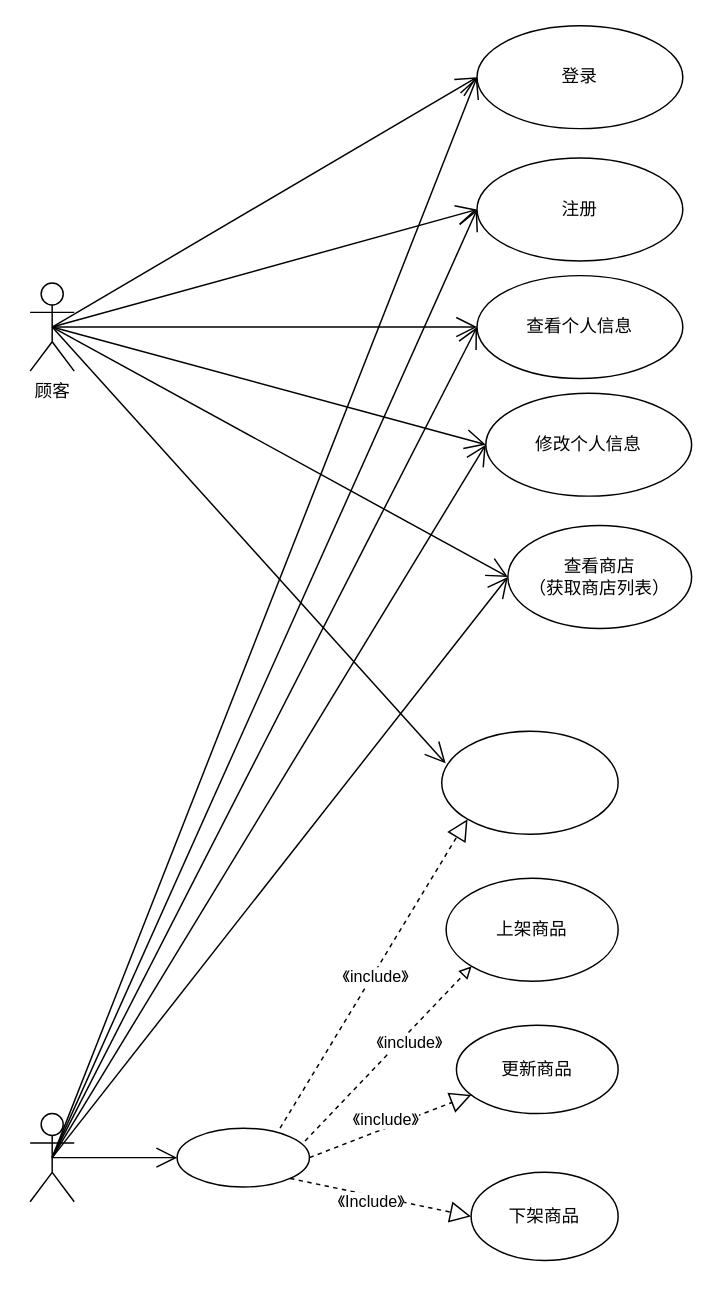
Image size: 717x1298. Some labels were removed from this diagram. The box of each missing label's shape, as (x1, y1, x2, y2) in pixels:
查看商品 （获取商品列表）: (440, 730, 618, 834)
管理员: (29, 1112, 74, 1202)
管理商店: (176, 1127, 309, 1187)
